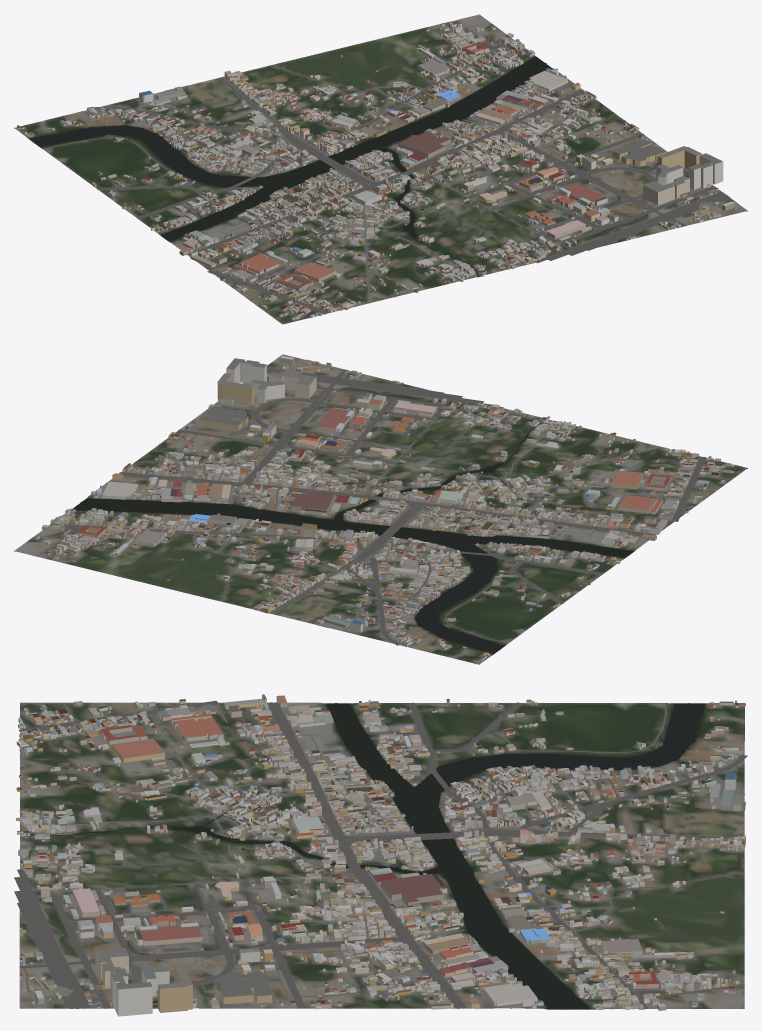
3 renders of one model, top to bottom at view 1: azimuth 30°, elevation 25°; view 2: azimuth 150°, elevation 25°; view 3: azimuth 270°, elevation 25°, orthographic. The views are drawn at different scales.
Visible parts, largest first — view 1: ground, buildings, roads, water; view 2: ground, buildings, roads, water; view 3: ground, buildings, roads, water.
Boxes of the visible parts, left/top/right/bottom form: ground: left=14, top=14, right=747, bottom=324; buildings: left=17, top=20, right=736, bottom=320; roads: left=39, top=23, right=743, bottom=314; water: left=29, top=56, right=688, bottom=276; ground: left=14, top=354, right=747, bottom=664; buildings: left=34, top=356, right=734, bottom=664; roads: left=50, top=357, right=731, bottom=658; water: left=73, top=420, right=633, bottom=653; ground: left=19, top=702, right=744, bottom=1009; buildings: left=16, top=694, right=745, bottom=1016; roads: left=14, top=700, right=747, bottom=1009; water: left=30, top=703, right=705, bottom=1009.
Bounding box in the file's own units: 1450 × 62.44 × 1418.
